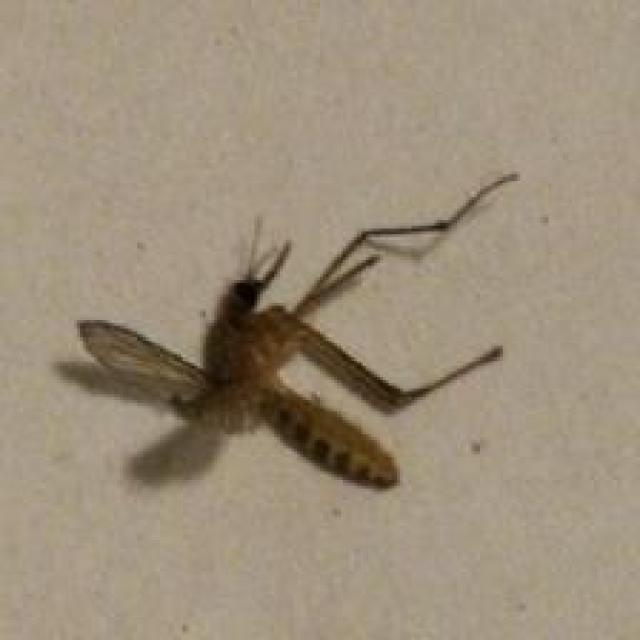Culex: (73, 173, 518, 493)
